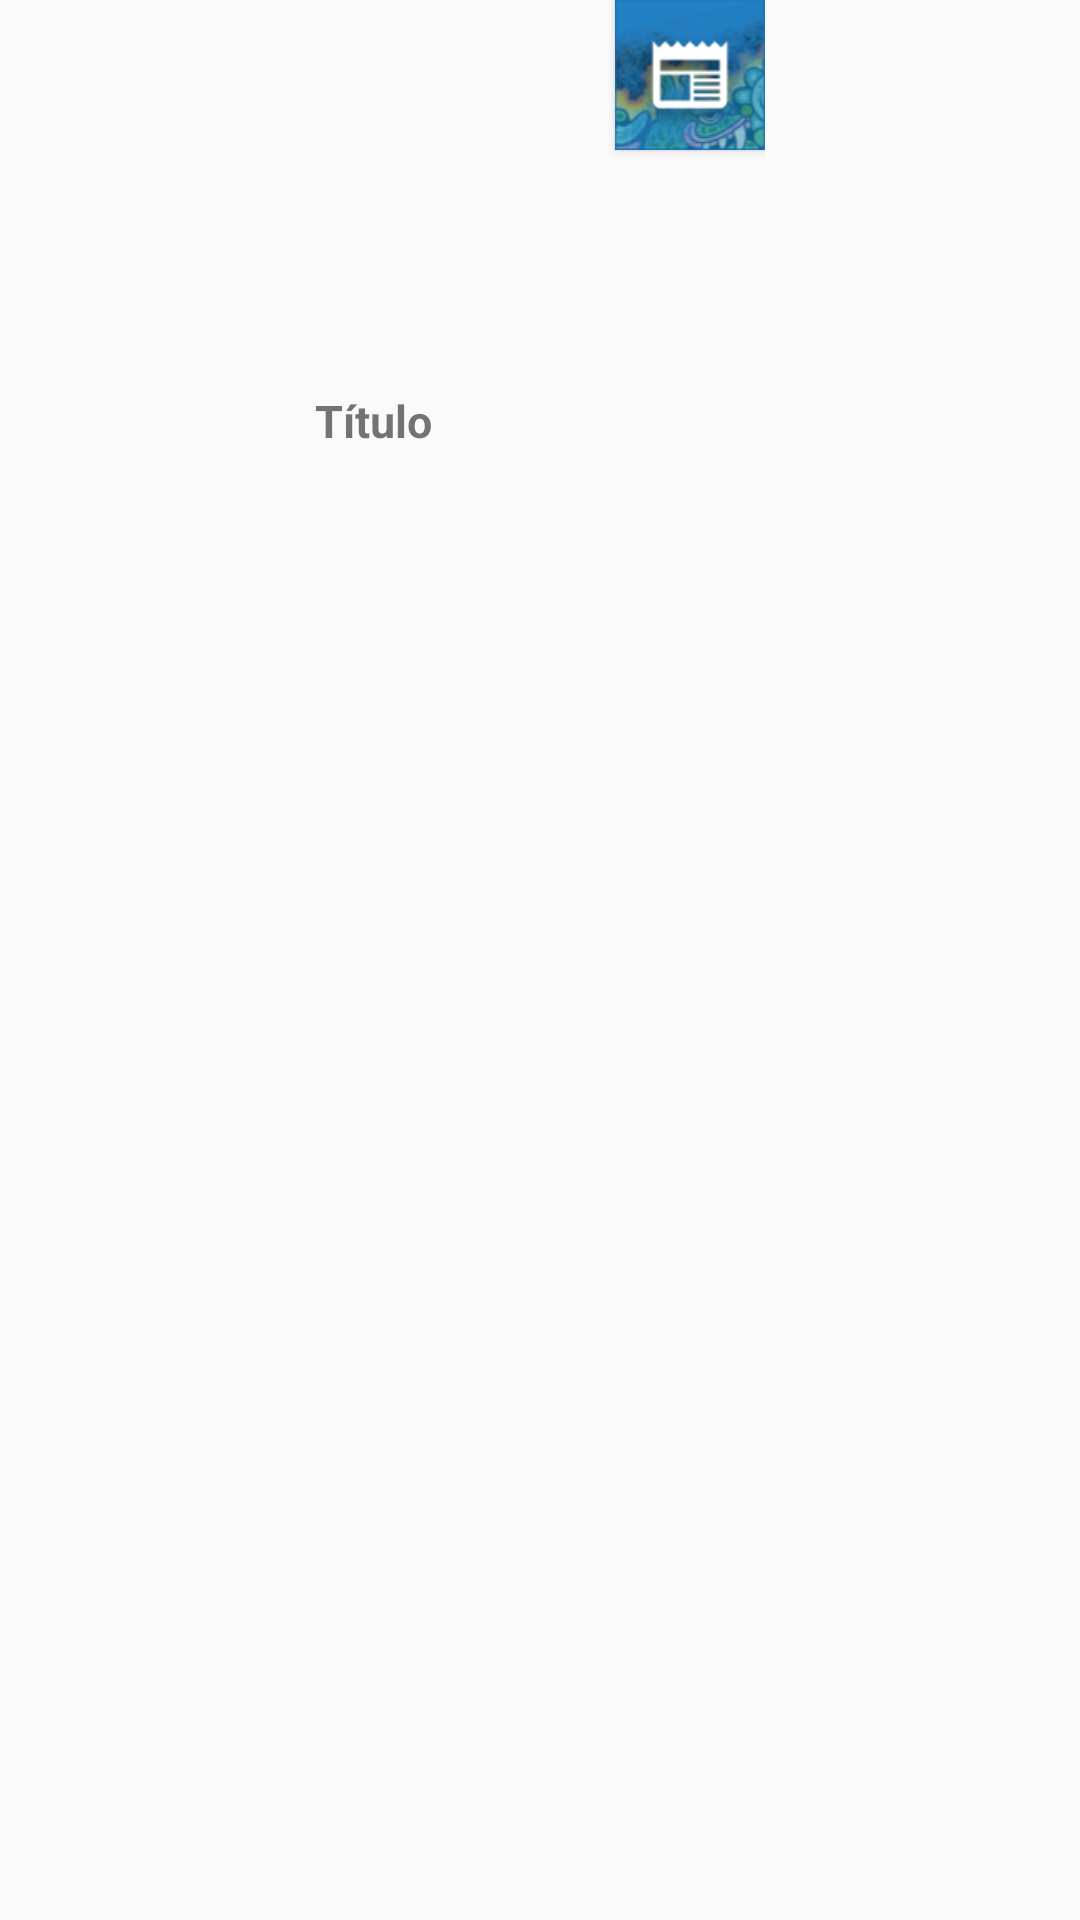

Screen size 1080×1920. Icon name, then its center in pixels as (x,y):
noticia: (690,75)
